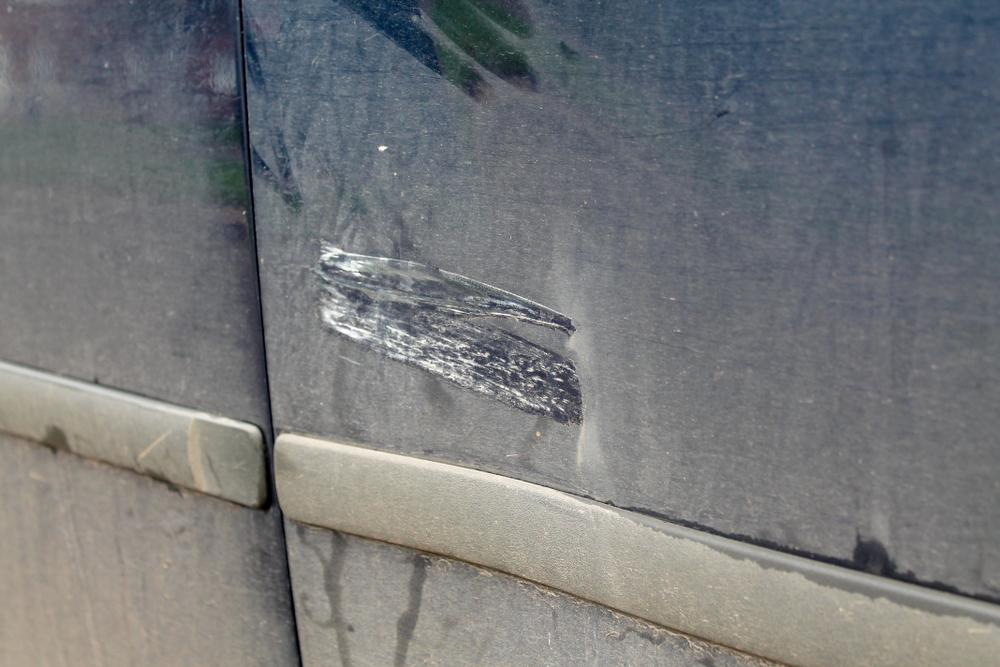scratch: (316, 238, 585, 434)
